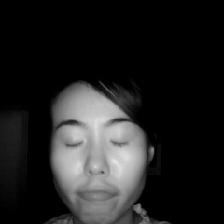sad: (37, 66, 159, 224)
